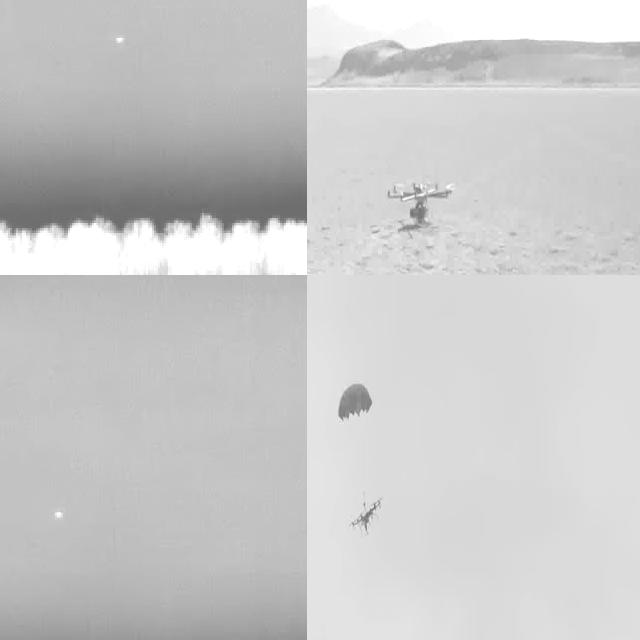1: (109, 28, 139, 58), (51, 505, 75, 530)
drone: (387, 172, 455, 222), (342, 494, 386, 538)
